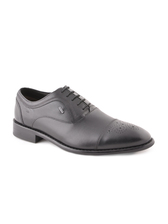shoes: (11, 88, 161, 158)
